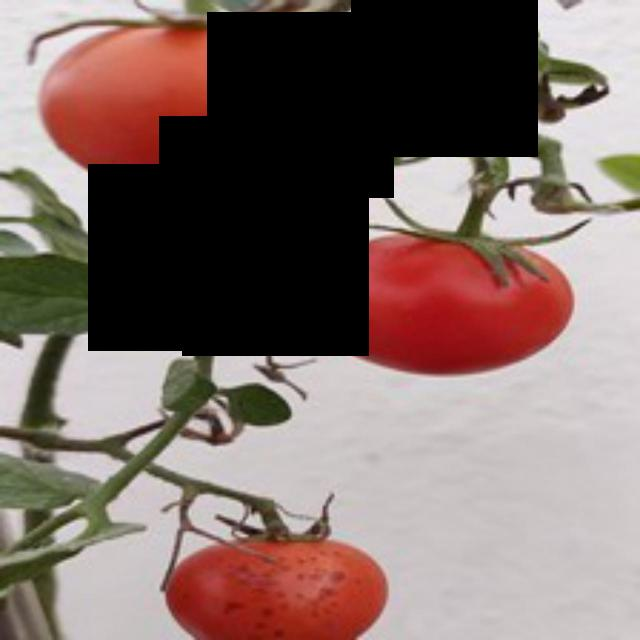tomato: (43, 18, 391, 212), (313, 222, 581, 390), (160, 531, 394, 637)
